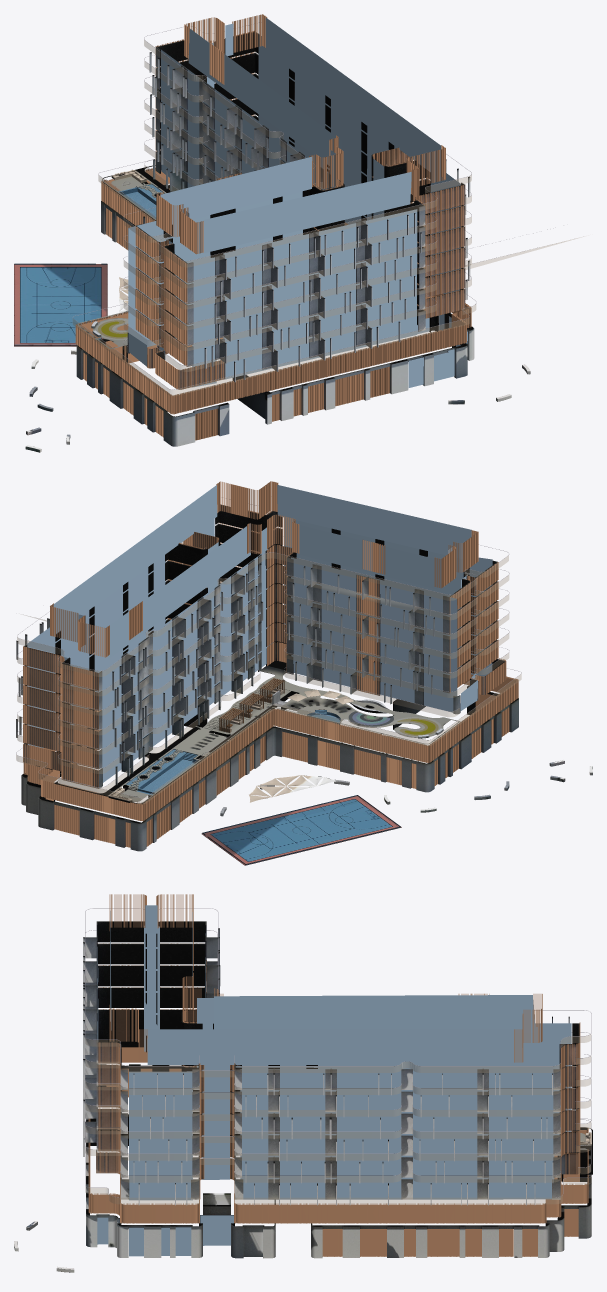
File: MAG_11_build_A.glb
The picture shows the model from 3 angles, top to bottom: view 1: azimuth 30°, elevation 25°; view 2: azimuth 150°, elevation 25°; view 3: azimuth 270°, elevation 25°; orthographic projection. The views are drawn at different scales.
Parts seen in each view (by area): view 1: A_Build; view 2: A_Build; view 3: A_Build.
Boxes of the visible parts, left/top/right/bottom form: A_Build: left=14, top=14, right=583, bottom=452; A_Build: left=16, top=481, right=592, bottom=865; A_Build: left=14, top=894, right=592, bottom=1272.
Bounding box in the file's own units: 123 × 42.07 × 101.
Materials: 5 (1 with a texture image).
